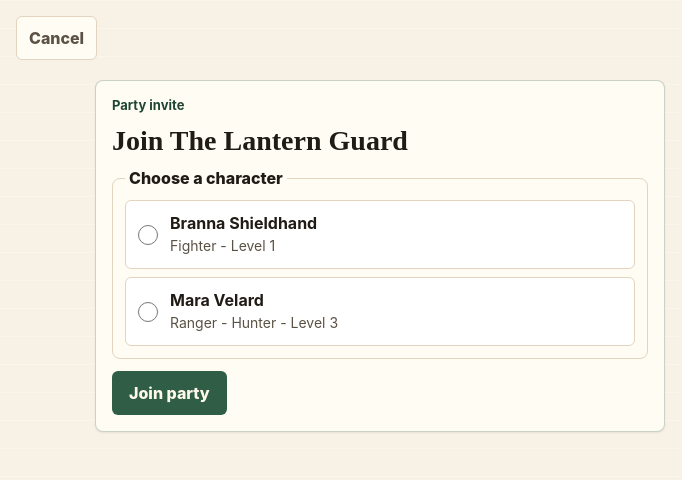
Test case: JoinPartyPage › requires one character selection before joining
This screenshot has width=682, height=480.
Expected: the heading "Join The Lantern Guard" is shown, [112,125,408,156]
What coordinates should you click on to do the following:
click the button "Join party"
I would click on:
 (169, 393)
Its box is [112,371,227,415].
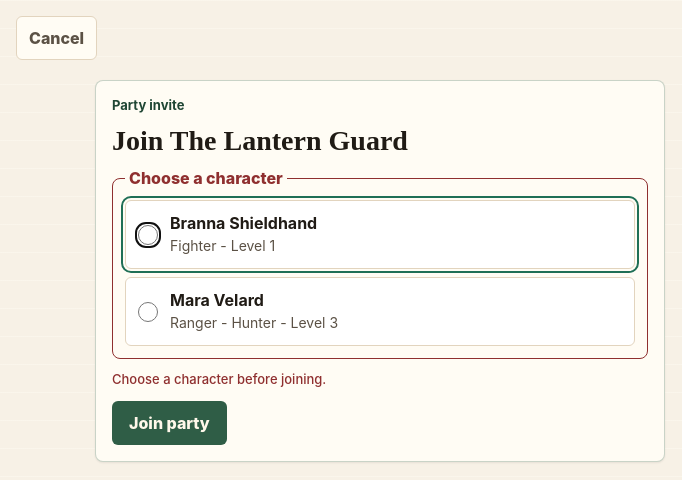
Expected: the message reads "Choose a character before joining.", [112,371,326,387]
